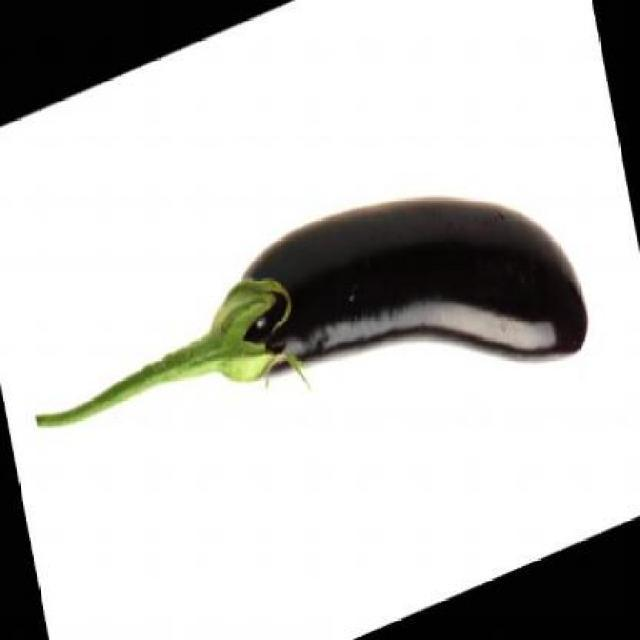eggplant: (25, 152, 608, 446)
